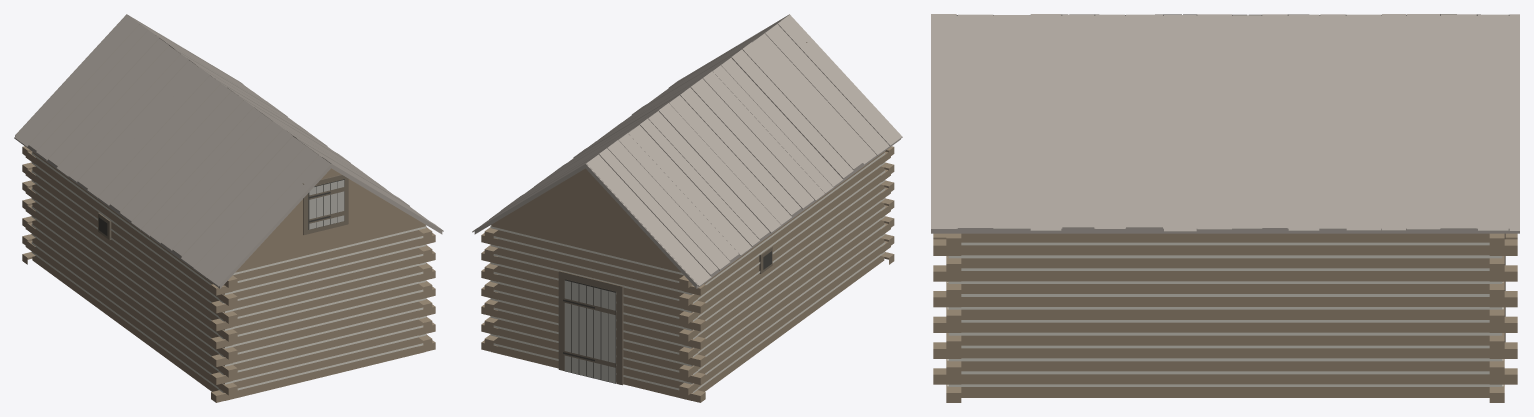
Rendered from recon_1835_blk_randolph_wells_a1_08__inferred_1835.glb.
The picture shows the model from 3 angles, left to right: view 1: azimuth 30°, elevation 25°; view 2: azimuth 150°, elevation 25°; view 3: azimuth 270°, elevation 25°; orthographic projection. The views are drawn at different scales.
Visible parts, largest first — view 1: recon_1835_blk_randolph_wells_a1_08__inferred_1835; view 2: recon_1835_blk_randolph_wells_a1_08__inferred_1835; view 3: recon_1835_blk_randolph_wells_a1_08__inferred_1835.
Boxes of the visible parts, x1,y1,x2,y2 form: recon_1835_blk_randolph_wells_a1_08__inferred_1835: (14,14,443,402); recon_1835_blk_randolph_wells_a1_08__inferred_1835: (472,14,902,402); recon_1835_blk_randolph_wells_a1_08__inferred_1835: (931,14,1519,402).
Size of the model in its own units: 5.91 by 5.43 by 9.25.
